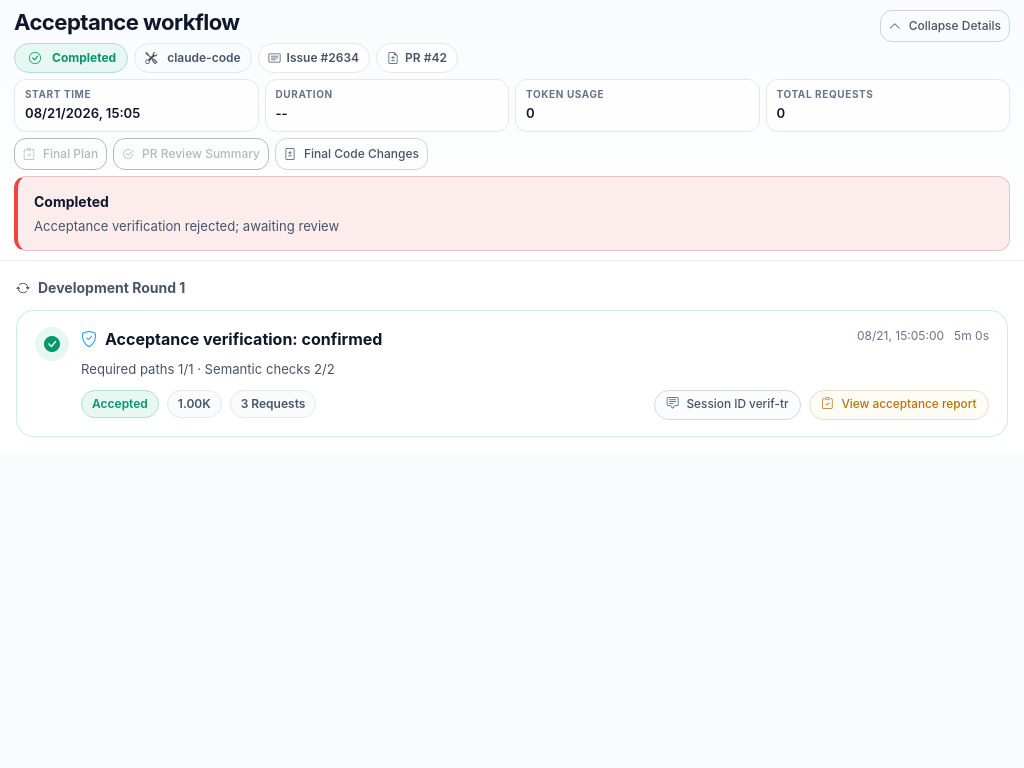
it: session viewer message rendering (#3000) › no longer truncates long messages and offers expand/collapse
Click the button "Session ID verif-tr".
click(728, 405)  # box [654,390,801,420]
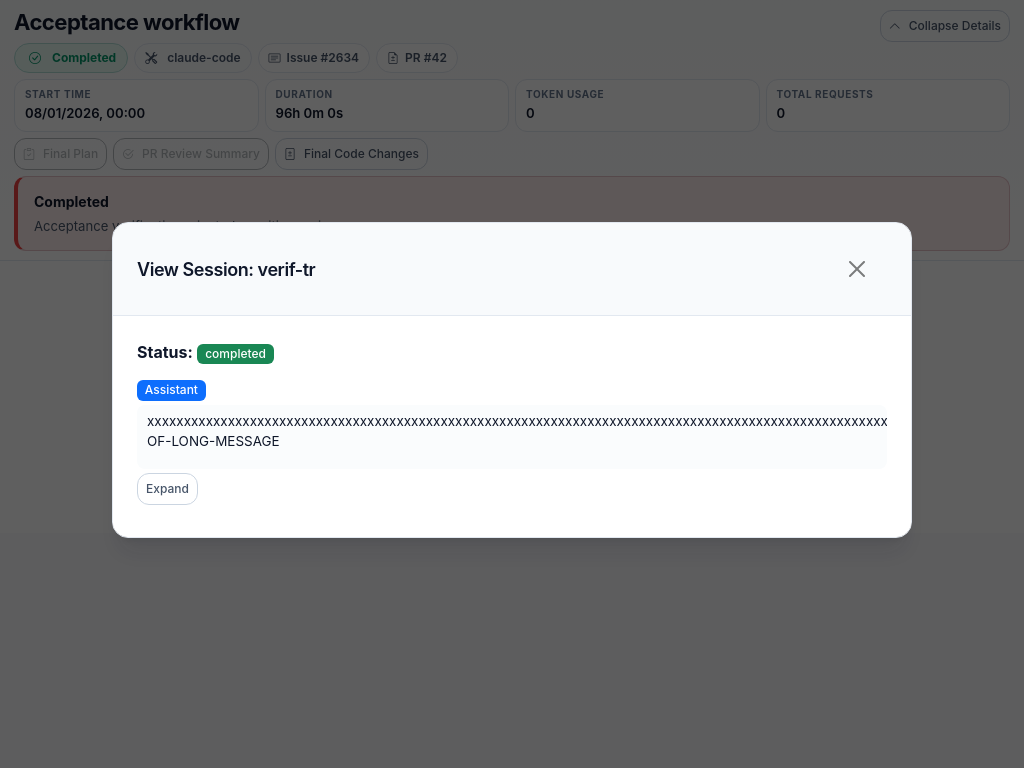
Click the button "Expand".
click(167, 489)  # box [137,473,198,505]
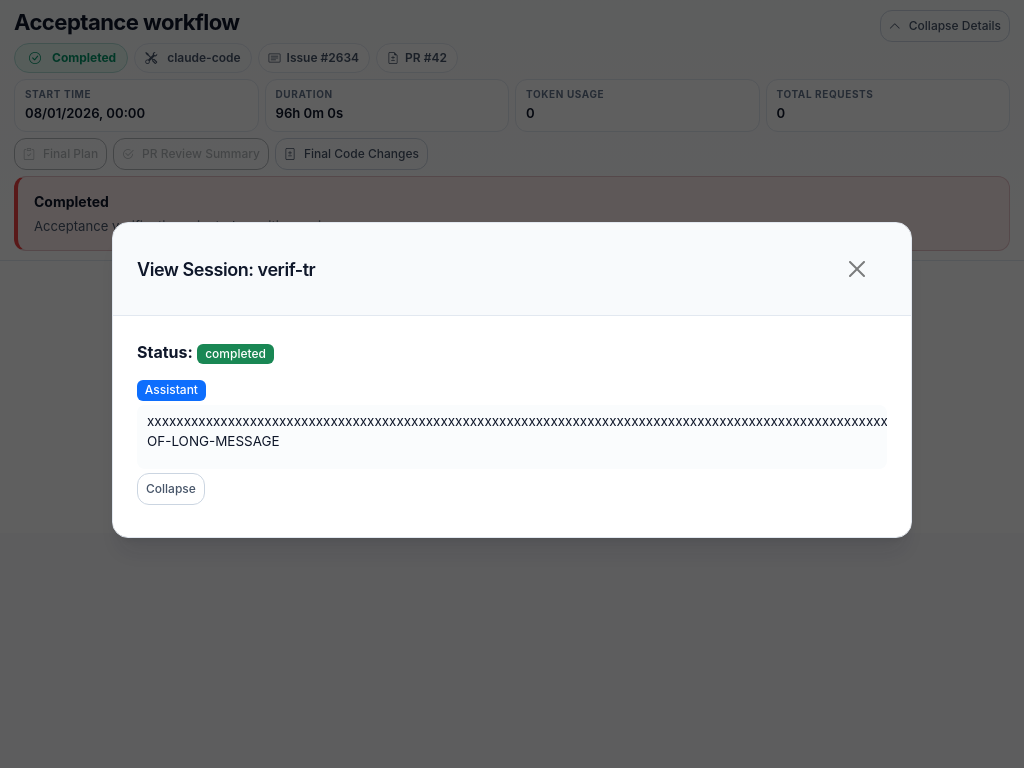
Expected: the button "Collapse" is shown, [137,473,205,505]
